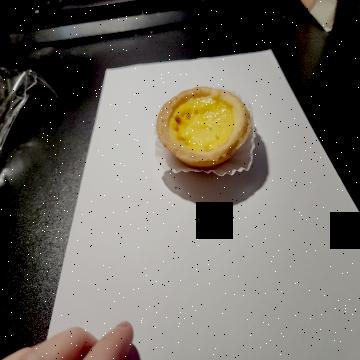EggTart: (156, 86, 252, 169)
